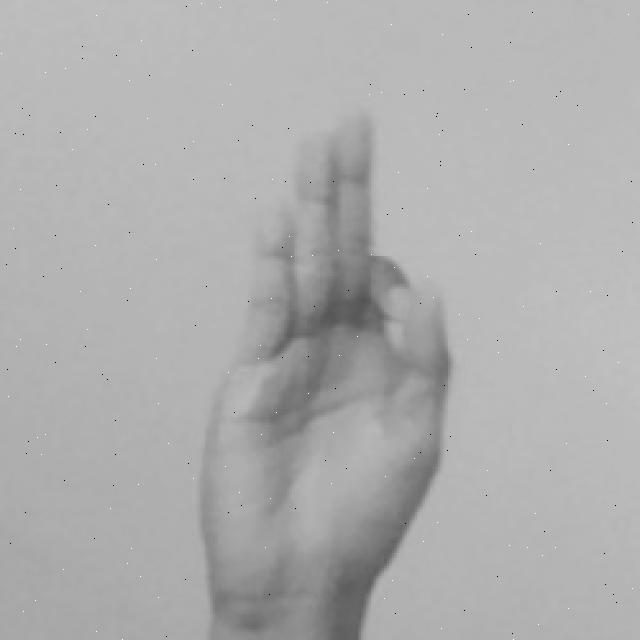F: (198, 114, 462, 640)
